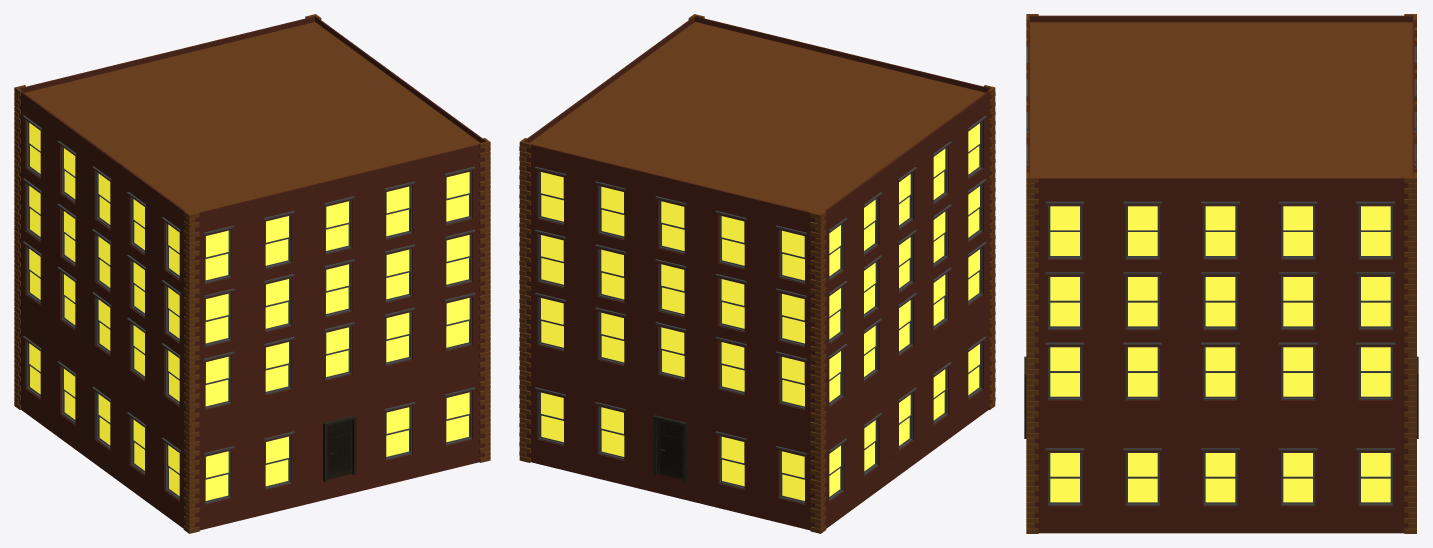
File: Advertising-Hell-Building-V5.fbx
3 views of the same model, side by side, from view 1: azimuth 30°, elevation 25°; view 2: azimuth 150°, elevation 25°; view 3: azimuth 270°, elevation 25° (orthographic). The views are drawn at different scales.
Parts seen in each view (by area): view 1: Advertising-Hell-Building-V5; view 2: Advertising-Hell-Building-V5; view 3: Advertising-Hell-Building-V5.
Part boxes in pixels (box(x1,y1,x2,y2)): Advertising-Hell-Building-V5: box(14, 14, 490, 533); Advertising-Hell-Building-V5: box(519, 14, 995, 533); Advertising-Hell-Building-V5: box(1024, 14, 1418, 533).
Bounding box in the file's own units: 1121 × 1128 × 1133.
